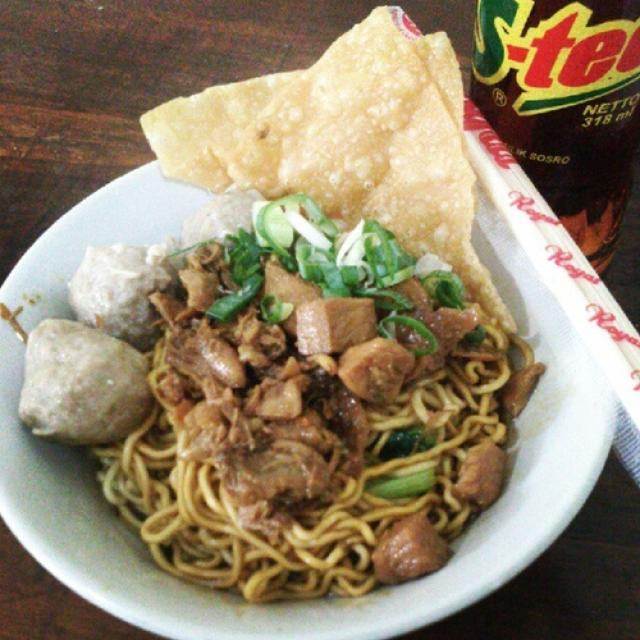面条主食: (22, 58, 608, 610)
